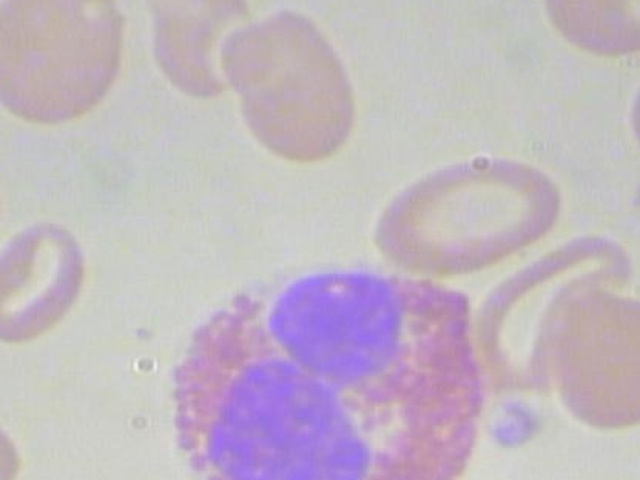Platelets: (483, 399, 545, 447), (623, 171, 640, 233)
RBC: (364, 148, 573, 277), (207, 7, 374, 167), (0, 0, 127, 135), (552, 280, 640, 440), (0, 220, 99, 350), (541, 0, 640, 67), (0, 135, 19, 265), (626, 36, 640, 198)
WBC: (137, 247, 491, 480)
